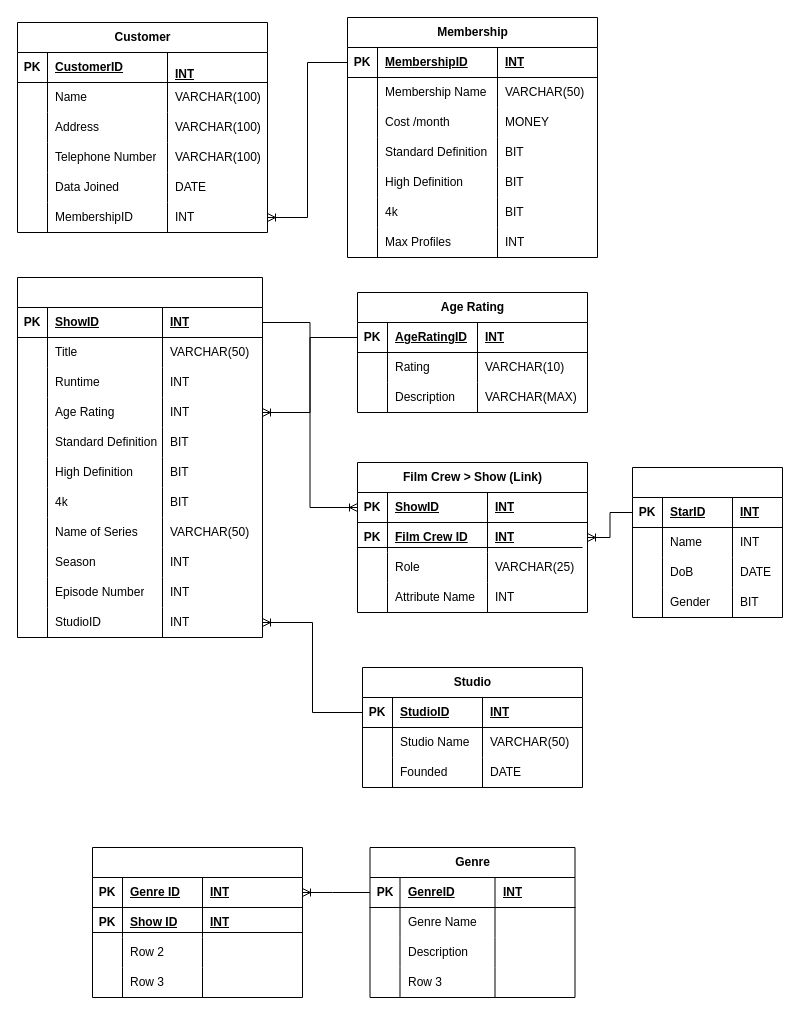
Image size: 800x1015. Some labels were removed from this diagram. The box of each missing label's shape, as (x1, y1, x2, y2) in pixels:
Film Crew: (632, 466, 782, 618)
Genre > Movie (Link): (92, 846, 302, 998)
TV Shows & Films: (16, 276, 262, 638)
